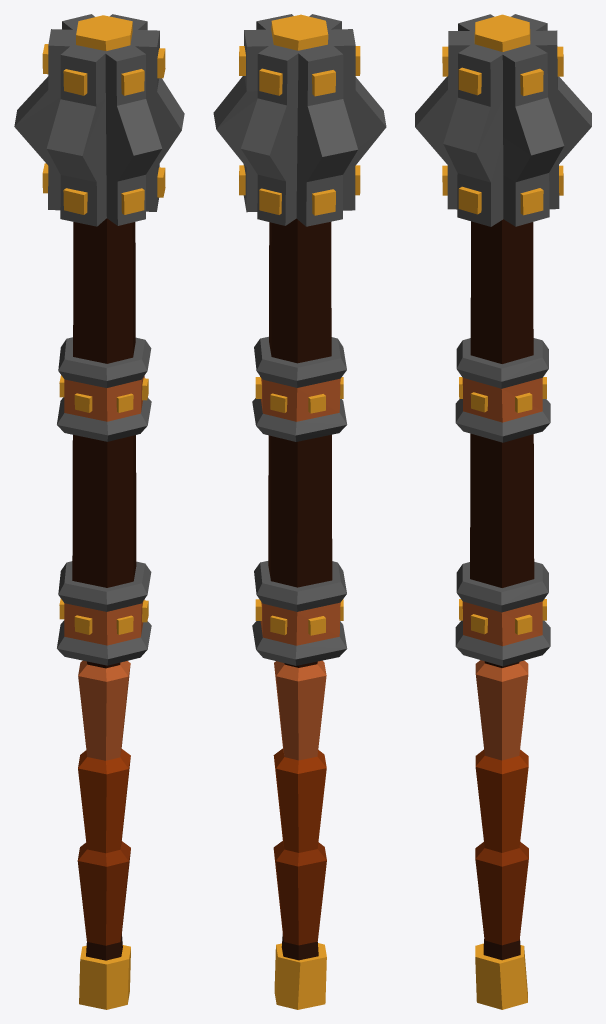
File: Mace 02.FBX
3 views of the same model, side by side, from view 1: azimuth 30°, elevation 25°; view 2: azimuth 150°, elevation 25°; view 3: azimuth 270°, elevation 25° (orthographic).
Visible parts, largest first — view 1: Mace 02; view 2: Mace 02; view 3: Mace 02.
Boxes of the visible parts, box(x1,y1,x2,y2) form: Mace 02: box(14, 14, 184, 1009); Mace 02: box(213, 14, 386, 1009); Mace 02: box(415, 14, 591, 1009).
Bounding box in the file's own units: 16.95 × 107 × 17.75.
1 material, 1 textured.
